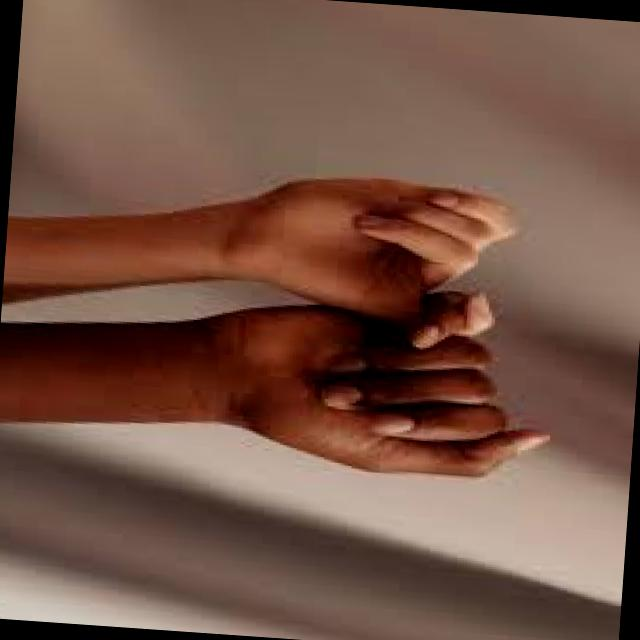Hand: (185, 273, 568, 497), (214, 160, 530, 342)
